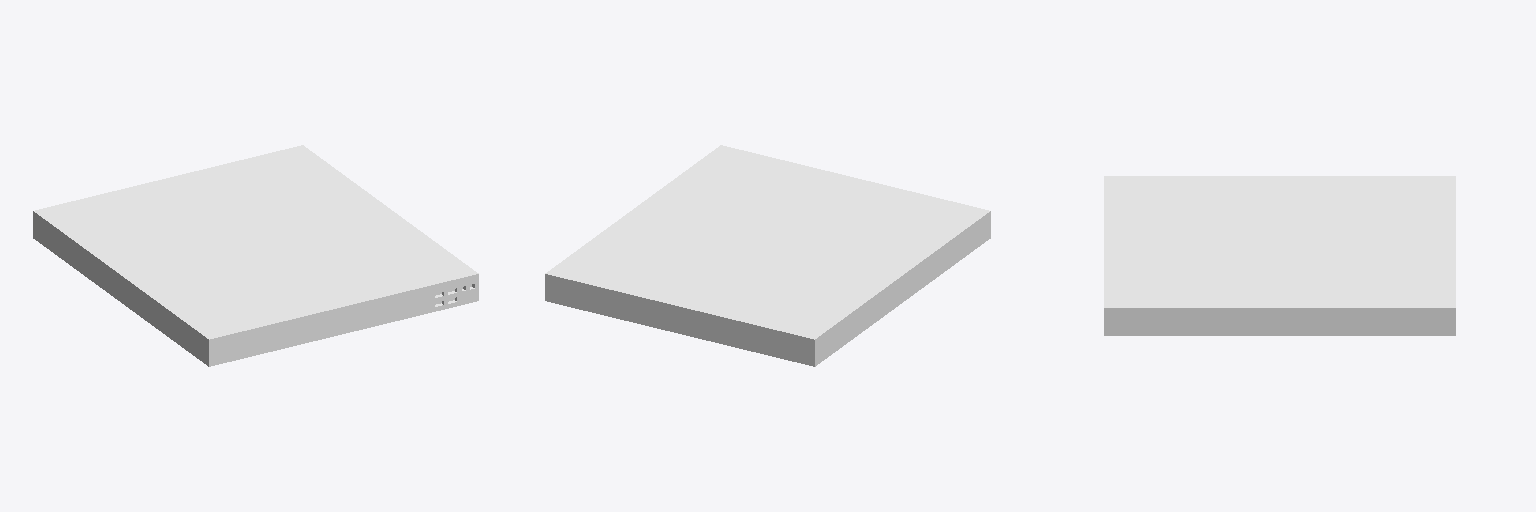
The model's file is server.obj.
The picture shows the model from 3 angles: view 1: azimuth 30°, elevation 25°; view 2: azimuth 150°, elevation 25°; view 3: azimuth 270°, elevation 25°; orthographic projection.
Parts seen in each view (by area): view 1: object 1; view 2: object 1; view 3: object 1.
Part boxes in pixels (x1,y1,x2,y2): object 1: (33,145,478,366); object 1: (545,145,990,366); object 1: (1104,176,1455,335).
Bounding box in the file's own units: 6.2 × 0.6 × 7.